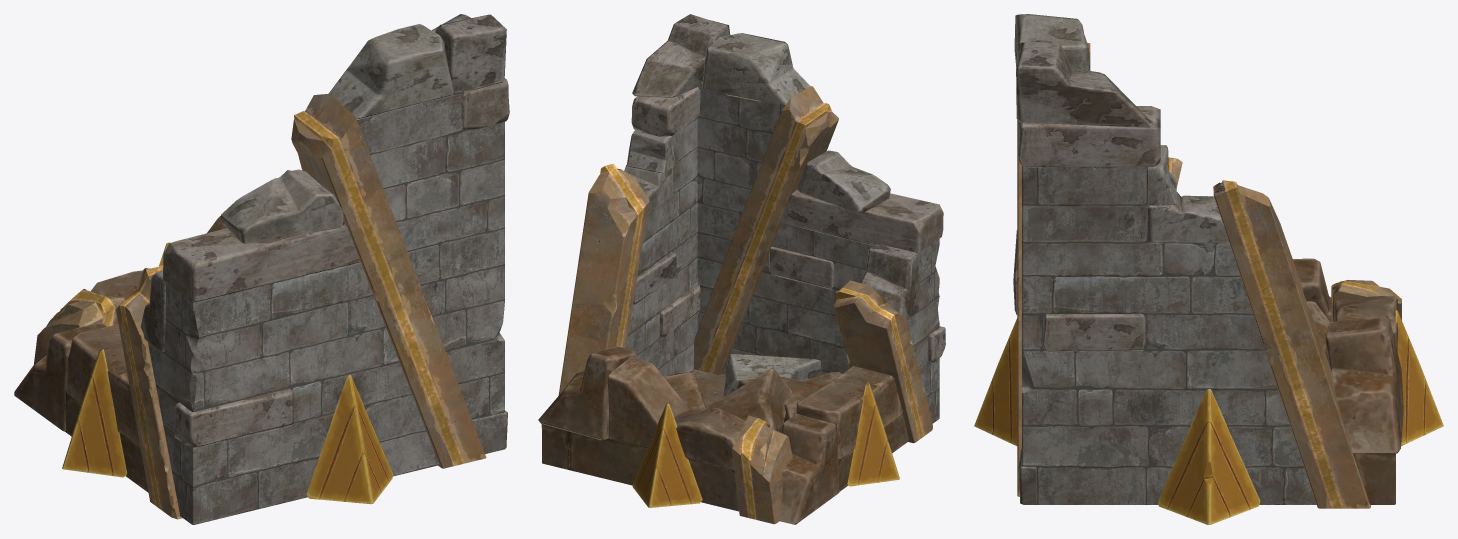
The picture shows the model from 3 angles, left to right: view 1: azimuth 30°, elevation 25°; view 2: azimuth 150°, elevation 25°; view 3: azimuth 270°, elevation 25°; orthographic projection. The views are drawn at different scales.
Visible parts, largest first — view 1: SM_DK_8m_TowerTop_01_LOD0; view 2: SM_DK_8m_TowerTop_01_LOD0; view 3: SM_DK_8m_TowerTop_01_LOD0.
Boxes of the visible parts, <box> form: SM_DK_8m_TowerTop_01_LOD0: <box>14,14,509,524</box>; SM_DK_8m_TowerTop_01_LOD0: <box>538,14,945,524</box>; SM_DK_8m_TowerTop_01_LOD0: <box>974,14,1443,524</box>.
Size of the model in its own units: 5.64 by 5.86 by 5.64.
Materials: 6 (6 with a texture image).
